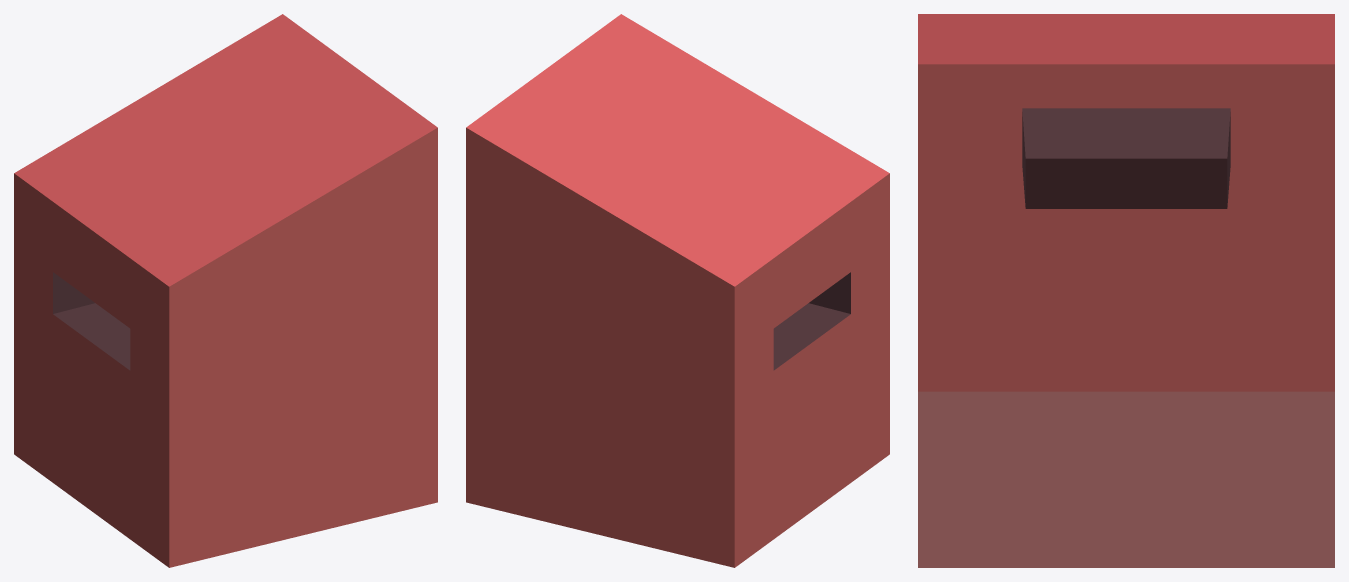
The model's file is 3D_letter_box.fbx.
3 renders of one model, left to right at view 1: azimuth 30°, elevation 25°; view 2: azimuth 150°, elevation 25°; view 3: azimuth 270°, elevation 25°, orthographic. The views are drawn at different scales.
Visible parts, largest first — view 1: Cube; view 2: Cube; view 3: Cube.
Part boxes in pixels (x1=…): Cube: x1=14, y1=14, x2=437, y2=567; Cube: x1=466, y1=14, x2=889, y2=567; Cube: x1=918, y1=14, x2=1334, y2=567.
Bounding box in the file's own units: 0.6 × 0.8 × 0.6.
